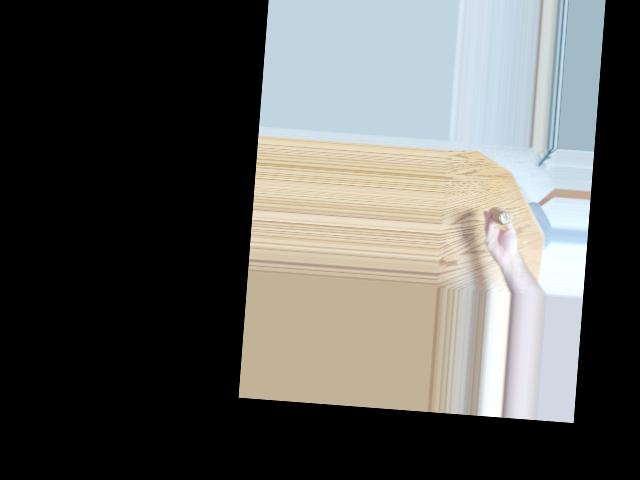sweet_potato: (487, 203, 515, 232)
